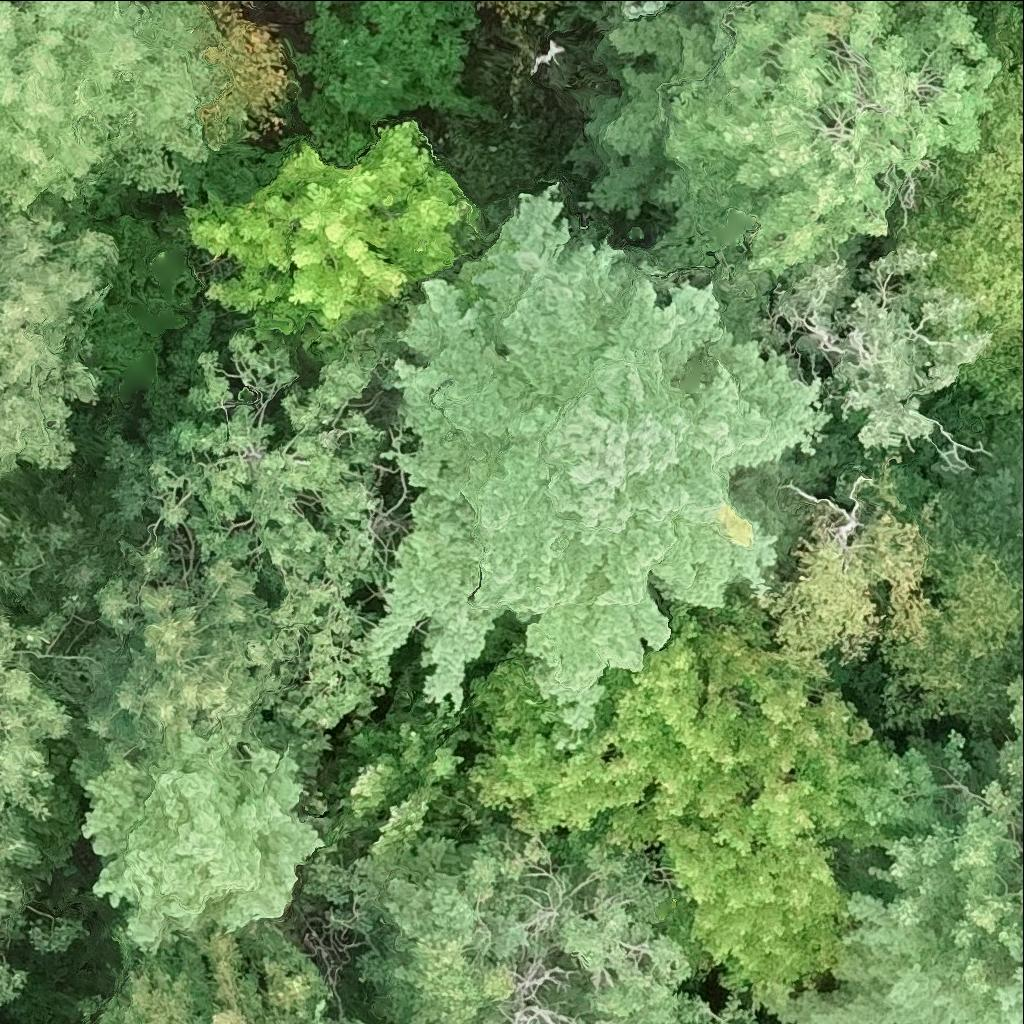crown: (366, 192, 835, 739), (588, 0, 1004, 457), (144, 330, 421, 747), (74, 540, 332, 835), (620, 577, 874, 837), (667, 735, 895, 1019), (187, 119, 469, 338), (382, 856, 751, 1023), (79, 733, 321, 954), (0, 0, 221, 209), (829, 701, 1023, 939), (461, 646, 655, 863), (884, 438, 1023, 731), (890, 51, 1023, 341), (310, 677, 508, 861), (289, 802, 519, 959), (0, 198, 116, 483), (791, 893, 1023, 1023), (777, 482, 941, 661), (0, 610, 72, 1002), (90, 920, 337, 1023), (957, 337, 1023, 428), (620, 0, 743, 23), (948, 0, 975, 5), (282, 0, 302, 5)
